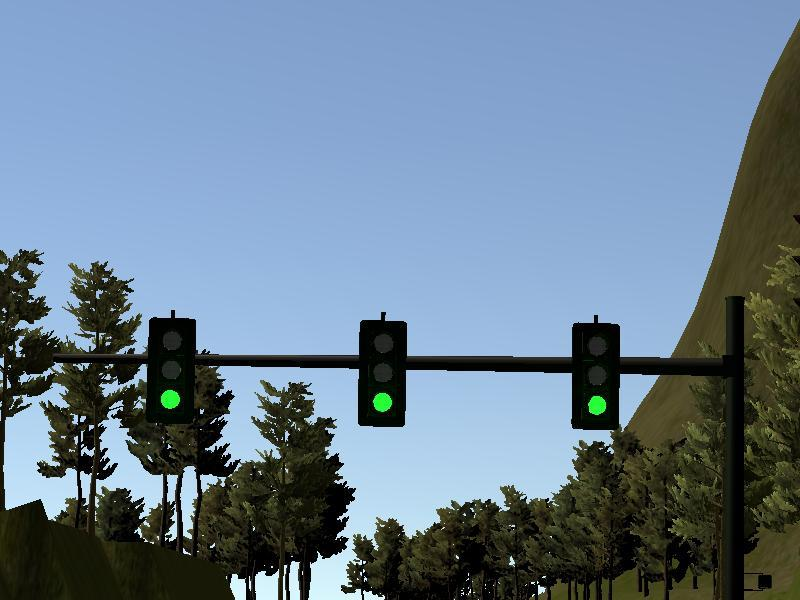Green: (149, 317, 192, 424), (571, 325, 616, 426), (362, 320, 405, 425)
